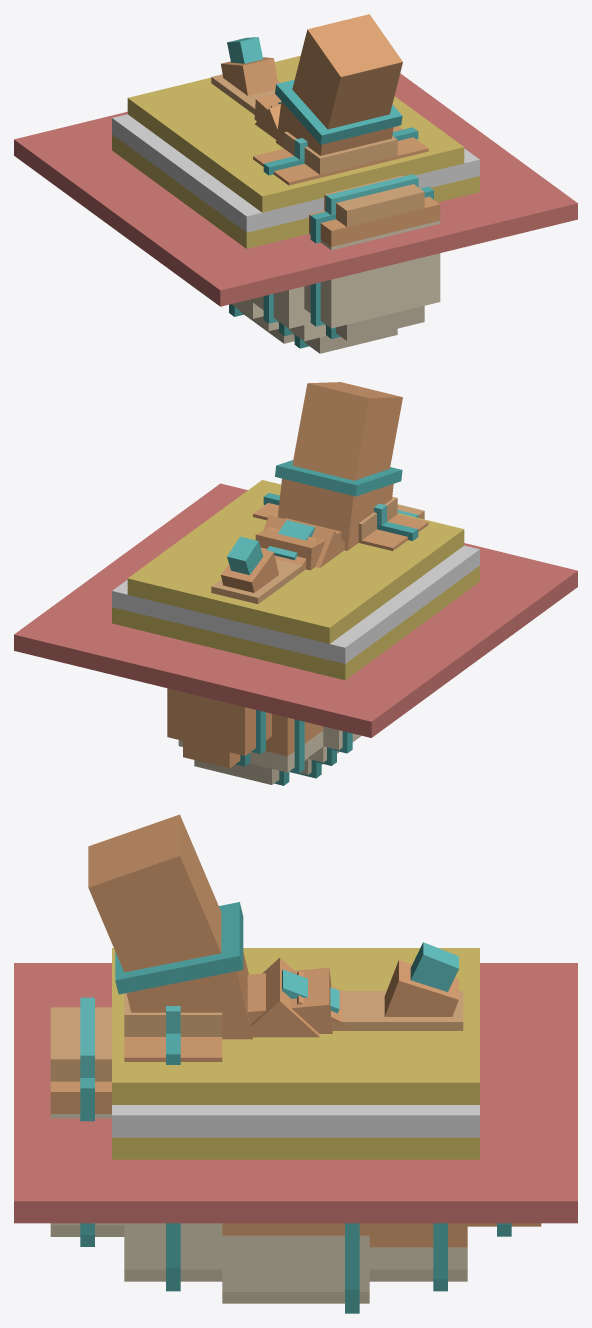
The model's file is Trainer2.glb.
The picture shows the model from 3 angles, top to bottom: view 1: azimuth 30°, elevation 25°; view 2: azimuth 150°, elevation 25°; view 3: azimuth 270°, elevation 25°; orthographic projection. The views are drawn at different scales.
Visible parts, largest first — view 1: Stand, Body, Head, T1; view 2: Stand, Body, Head, T2, T1, Fin; view 3: Stand, Body, Head, T2, T1, Fin.
Part boxes in pixels (x1,y1,x2,y2): Stand: [14, 55, 577, 306]; Body: [229, 14, 440, 353]; Head: [211, 37, 281, 114]; T1: [255, 105, 280, 139]; Stand: [14, 480, 577, 737]; Body: [167, 382, 428, 785]; Head: [211, 536, 302, 604]; T2: [255, 518, 341, 570]; T1: [263, 515, 344, 567]; Fin: [266, 520, 314, 560]; Stand: [14, 948, 577, 1223]; Body: [50, 814, 541, 1313]; Head: [331, 942, 463, 1030]; T2: [247, 967, 332, 1033]; T1: [250, 958, 319, 1037]; Fin: [282, 969, 339, 1013].
Size of the model in its own units: 9.2 by 8.09 by 9.2.
